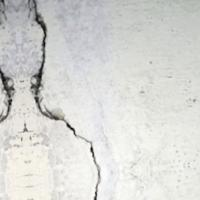crack: (0, 0, 108, 199)
